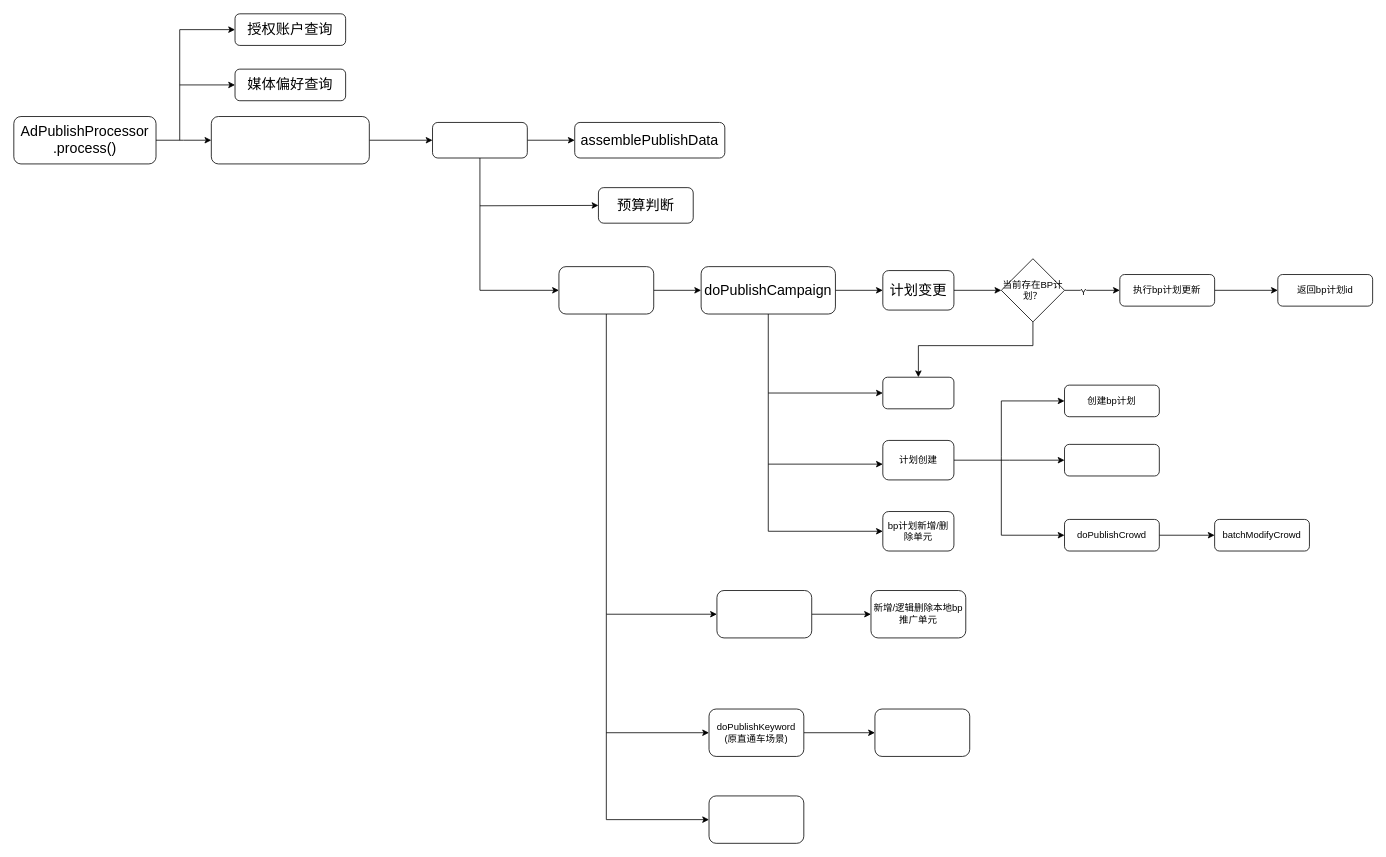
Image size: 1386x857. Some labels were removed from this diagram. The shapes that lost their labels are listed below. From the top down, each one's centre as x and y in pixels, then its label:
At (x=290, y=140): "AdPublishTaskHandler .handle()".
At (x=479, y=140): "excutePublish".
At (x=606, y=290): "doPublish".
At (x=918, y=392): "计划复用".
At (x=1111, y=460): "计划和单元映射".
At (x=764, y=614): "doPublishAdgroup (三个实现类)".
At (x=922, y=732): "关键词更新/新增/删除".
At (x=756, y=819): "更新计划推广状态".
